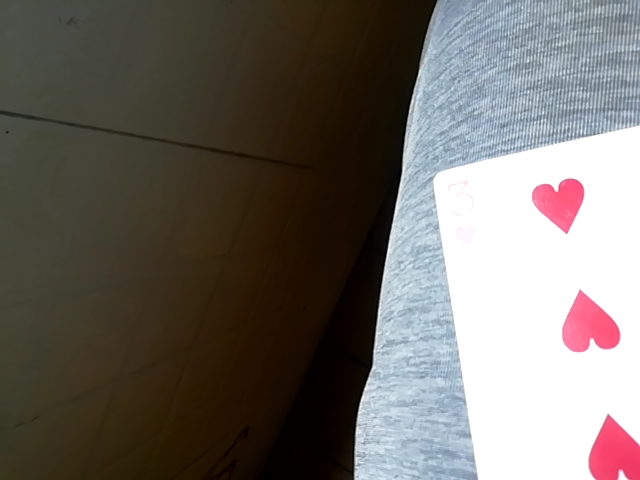hx 3: (425, 77, 639, 474)
